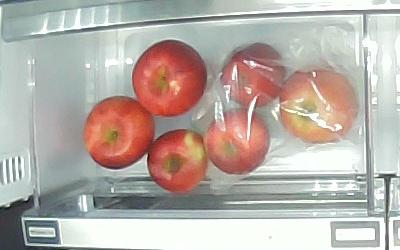apple: (132, 39, 208, 117), (84, 96, 155, 169), (147, 128, 208, 193)
apple_vinyl: (279, 67, 358, 145), (220, 42, 287, 108), (205, 108, 271, 175)
